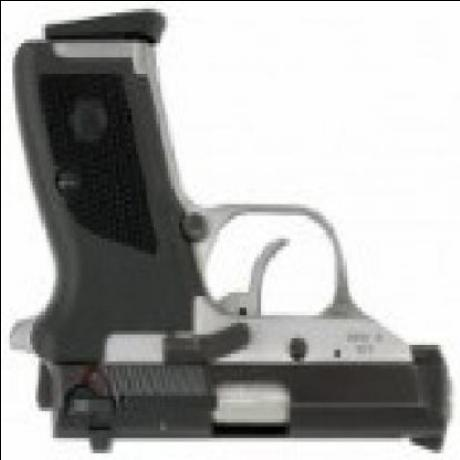weapon: (14, 19, 447, 448)
